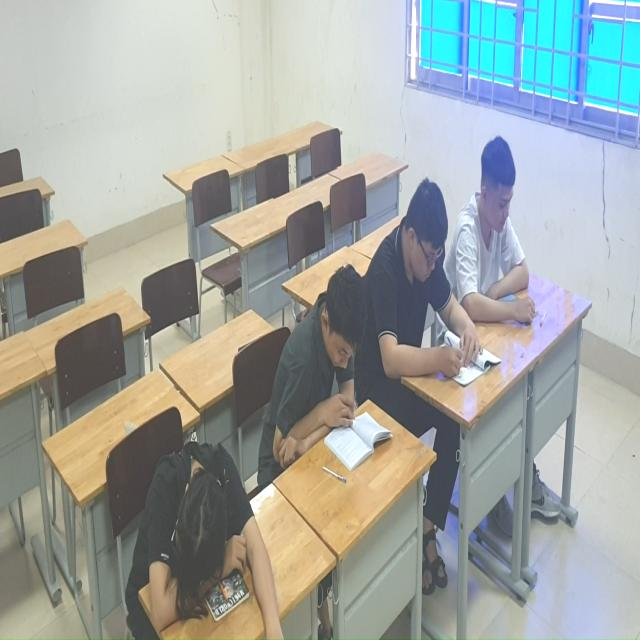read: (262, 256, 396, 485), (371, 175, 503, 386), (459, 129, 541, 346)
sleep: (120, 439, 291, 640)
